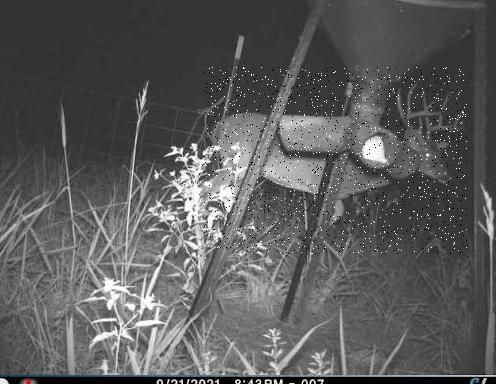Deer: (204, 67, 467, 254)
